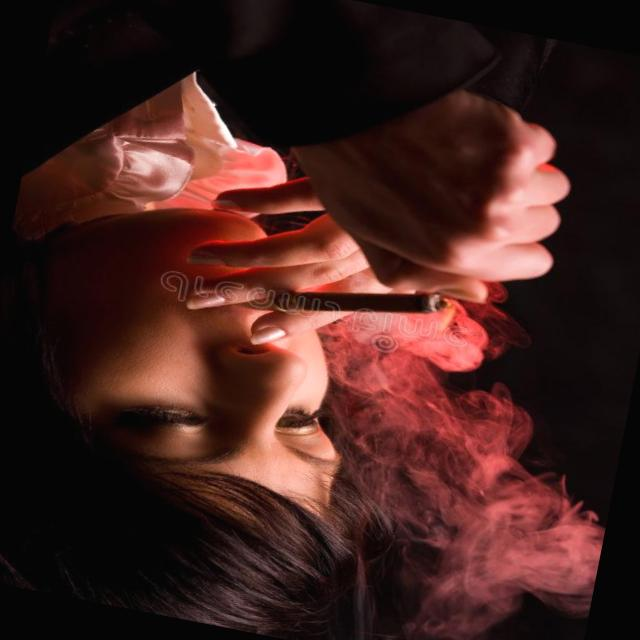smoke: (220, 241, 502, 364)
